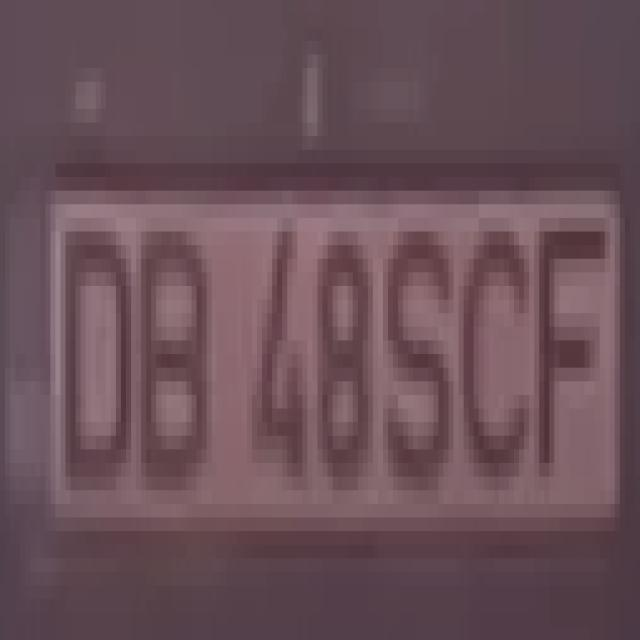Autre: (50, 178, 620, 531)
